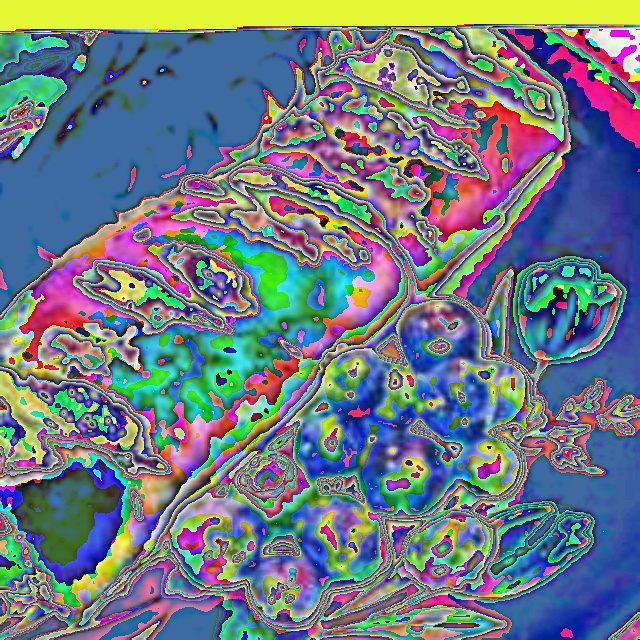background: (0, 28, 570, 629), (85, 80, 489, 584)
